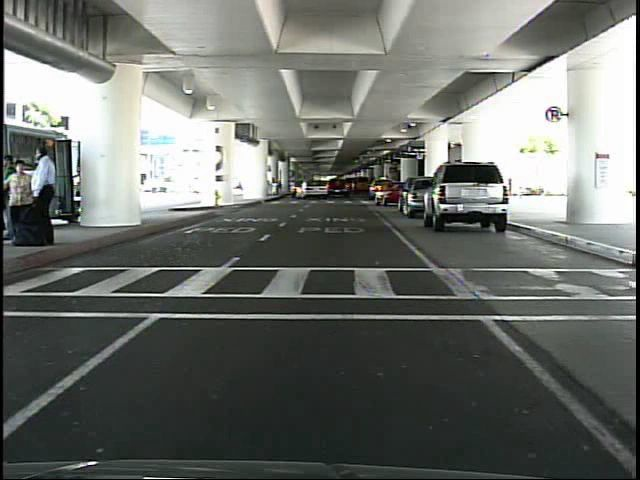person: (25, 145, 57, 245), (7, 154, 31, 250), (4, 151, 17, 244)
